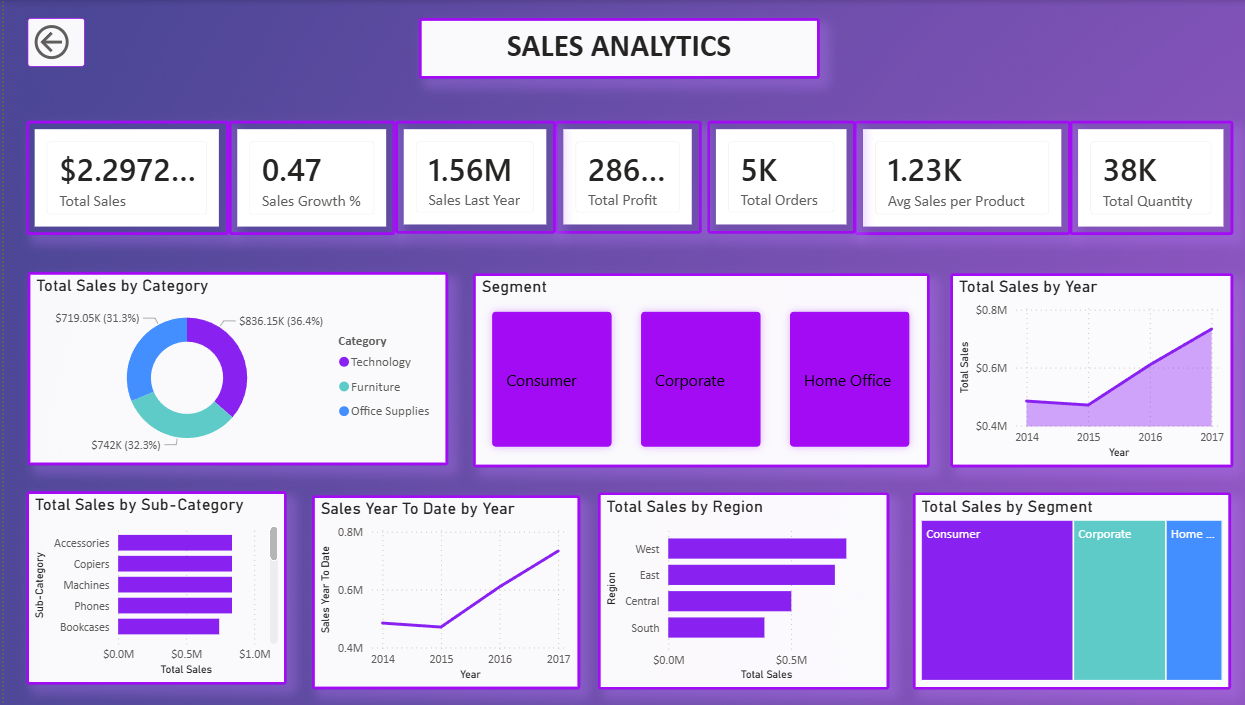

The page's visual inventory and layout, read from the dashboard file:
{"tool":"powerbi","page":{"name":"sales Analytics","canvas":[1280,720],"ordinal":1},"visuals":[{"type":"textbox","box":[424.2,18,409.4,62.2],"z":0},{"type":"cardVisual","fields":{"Data":["Category_details.Avg Sales per Product"]},"box":[869.3,123.9,220.3,117],"z":1000},{"type":"cardVisual","fields":{"Data":["Category_details.Total Quantity"]},"box":[1087.9,123.9,167,117],"z":2000},{"type":"cardVisual","fields":{"Data":["Category_details.Total Profit"]},"box":[562.9,123.9,149.8,115.3],"z":3000},{"type":"cardVisual","fields":{"Data":["Category_details.Total Sales"]},"box":[22.4,123.9,206.6,117],"z":4000},{"type":"cardVisual","fields":{"Data":["Category_details.Total Orders"]},"box":[717.8,123.9,151.5,115.3],"z":5000},{"type":"areaChart","fields":{"Category":["Data.Order Date.Variation.Date Hierarchy.Year","Data.Order Date.Variation.Date Hierarchy.Quarter","Data.Order Date.Variation.Date Hierarchy.Month","Data.Order Date.Variation.Date Hierarchy.Day"],"Y":["Category_details.Total Sales"]},"box":[965.6,278.9,289.2,197.9],"z":6000},{"type":"clusteredBarChart","fields":{"Category":["Data.Region","Data.State","Data.City"],"Y":["Category_details.Total Sales"]},"box":[605.9,502.6,297.8,201.4],"z":7000},{"type":"donutChart","fields":{"Category":["Category_details.Category","Category_details.Sub-Category"],"Y":["Category_details.Total Sales"]},"box":[23.9,278.3,429.3,197.5],"z":8000},{"type":"clusteredBarChart","fields":{"Y":["Category_details.Total Sales"],"Category":["Category_details.Sub-Category"]},"box":[22.4,501.2,266.3,197.5],"z":9000},{"type":"treemap","fields":{"Group":["Data.Segment"],"Values":["Category_details.Total Sales"]},"box":[927.8,502.6,325.3,201.4],"z":10000},{"type":"advancedSlicerVisual","fields":{"Values":["Data.Segment"]},"box":[478.5,278.9,466.5,197.9],"z":11000},{"type":"actionButton","box":[24.1,18.4,58.1,49.6],"z":12000},{"type":"lineChart","fields":{"Category":["Data.Order Date.Variation.Date Hierarchy.Year","Data.Order Date.Variation.Date Hierarchy.Quarter","Data.Order Date.Variation.Date Hierarchy.Month","Data.Order Date.Variation.Date Hierarchy.Day"],"Y":["Category_details.Sales YTD"]},"box":[315,506.1,273.7,197.9],"z":13000},{"type":"cardVisual","fields":{"Data":["Category_details.Sales Growth %"]},"box":[228.9,123.9,170.4,117],"z":14000},{"type":"cardVisual","fields":{"Data":["Category_details.Sales Last Year"]},"box":[399.3,123.9,163.5,115.3],"z":15000}]}

Visuals, with their boxes in screenshot pixels (x1, y1, x2, y2), scaled from the page's 1280x720 canvas onto the 1245x705 screenshot:
textbox: <region>413, 18, 811, 79</region>
cardVisual - Category_details.Avg Sales per Product: <region>846, 121, 1060, 236</region>
cardVisual - Category_details.Total Quantity: <region>1058, 121, 1221, 236</region>
cardVisual - Category_details.Total Profit: <region>548, 121, 693, 234</region>
cardVisual - Category_details.Total Sales: <region>22, 121, 223, 236</region>
cardVisual - Category_details.Total Orders: <region>698, 121, 846, 234</region>
areaChart - Data.Order Date.Variation.Date Hierarchy.Year x Data.Order Date.Variation.Date Hierarchy.Quarter: <region>939, 273, 1220, 467</region>
clusteredBarChart - Data.Region x Data.State: <region>589, 492, 879, 689</region>
donutChart - Category_details.Category x Category_details.Sub-Category: <region>23, 273, 441, 466</region>
clusteredBarChart - Category_details.Total Sales x Category_details.Sub-Category: <region>22, 491, 281, 684</region>
treemap - Data.Segment x Category_details.Total Sales: <region>902, 492, 1219, 689</region>
advancedSlicerVisual - Data.Segment: <region>465, 273, 919, 467</region>
actionButton: <region>23, 18, 80, 67</region>
lineChart - Data.Order Date.Variation.Date Hierarchy.Year x Data.Order Date.Variation.Date Hierarchy.Quarter: <region>306, 496, 573, 689</region>
cardVisual - Category_details.Sales Growth %: <region>223, 121, 388, 236</region>
cardVisual - Category_details.Sales Last Year: <region>388, 121, 547, 234</region>
